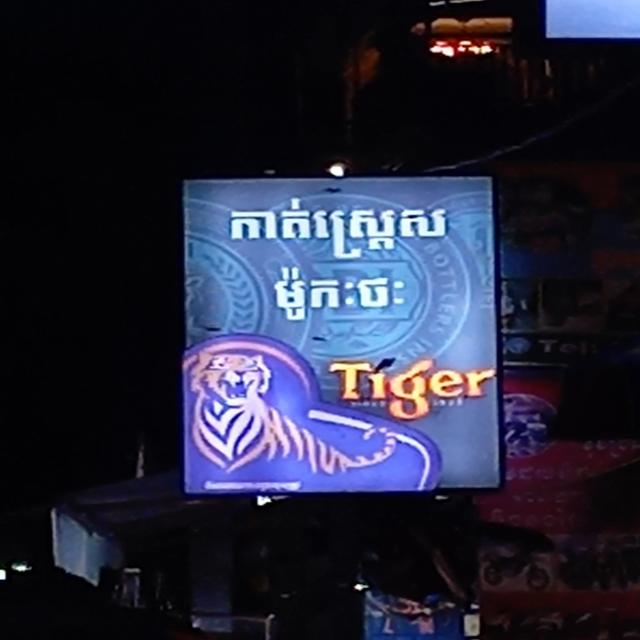Yolov11_80vkh: (212, 194, 457, 262), (255, 264, 424, 324)
